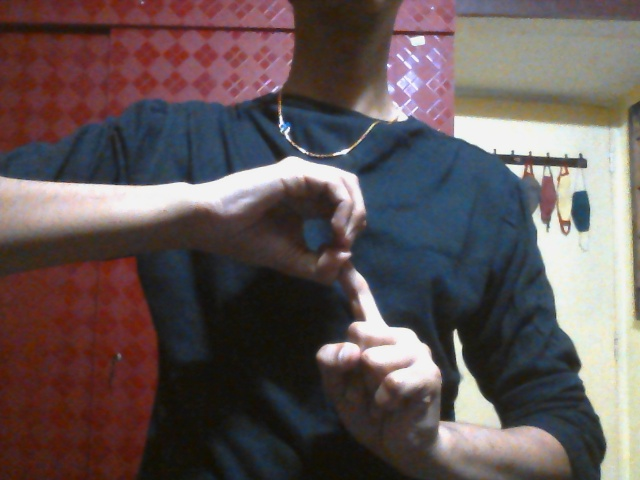Q: (217, 156, 445, 463)
